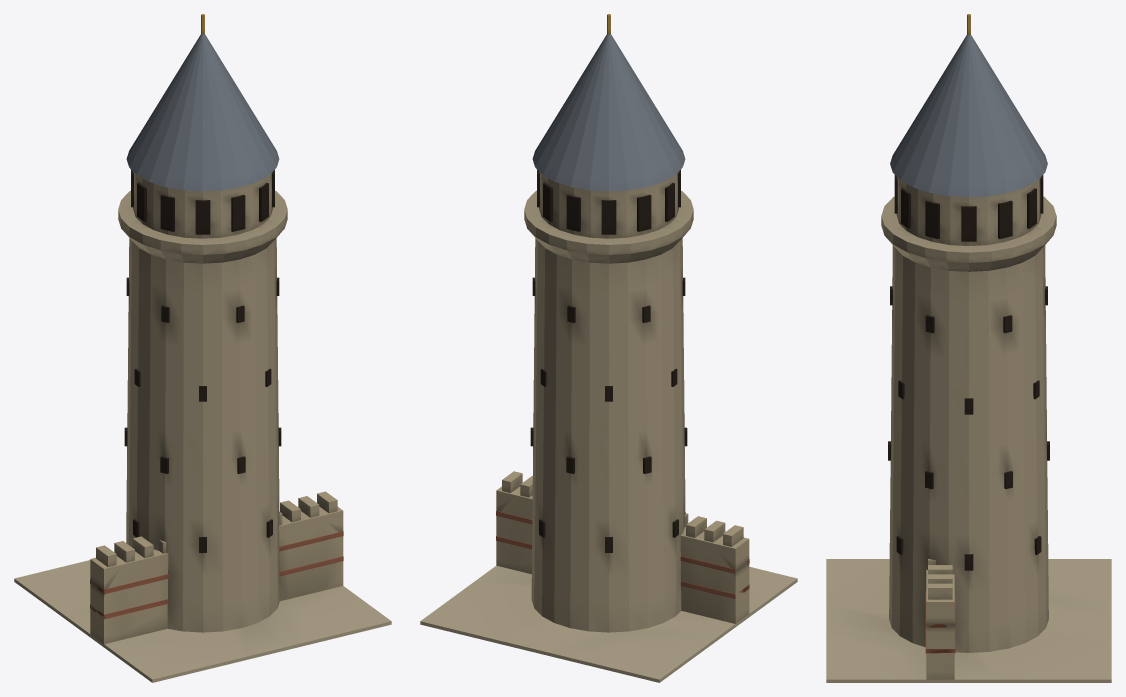
Rendered from galata-tower.glb.
The picture shows the model from 3 angles, left to right: view 1: azimuth 30°, elevation 25°; view 2: azimuth 150°, elevation 25°; view 3: azimuth 270°, elevation 25°; orthographic projection. The views are drawn at different scales.
Parts seen in each view (by area): view 1: p1_shaft, p0_tower, p2_top; view 2: p1_shaft, p2_top, p0_tower; view 3: p1_shaft, p2_top, p0_tower.
Part boxes in pixels (x1,y1,x2,y2): p1_shaft: (124, 238, 281, 632); p0_tower: (14, 491, 391, 682); p2_top: (118, 14, 287, 263); p1_shaft: (530, 238, 687, 632); p2_top: (524, 14, 693, 263); p0_tower: (420, 471, 797, 682); p1_shaft: (888, 245, 1049, 652); p2_top: (881, 14, 1056, 271); p0_tower: (826, 559, 1111, 682).
Size of the model in its own units: 30 by 70.5 by 30.
